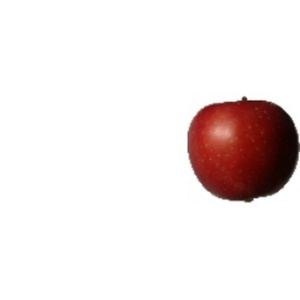maçã braeburn: (185, 99, 300, 207)
